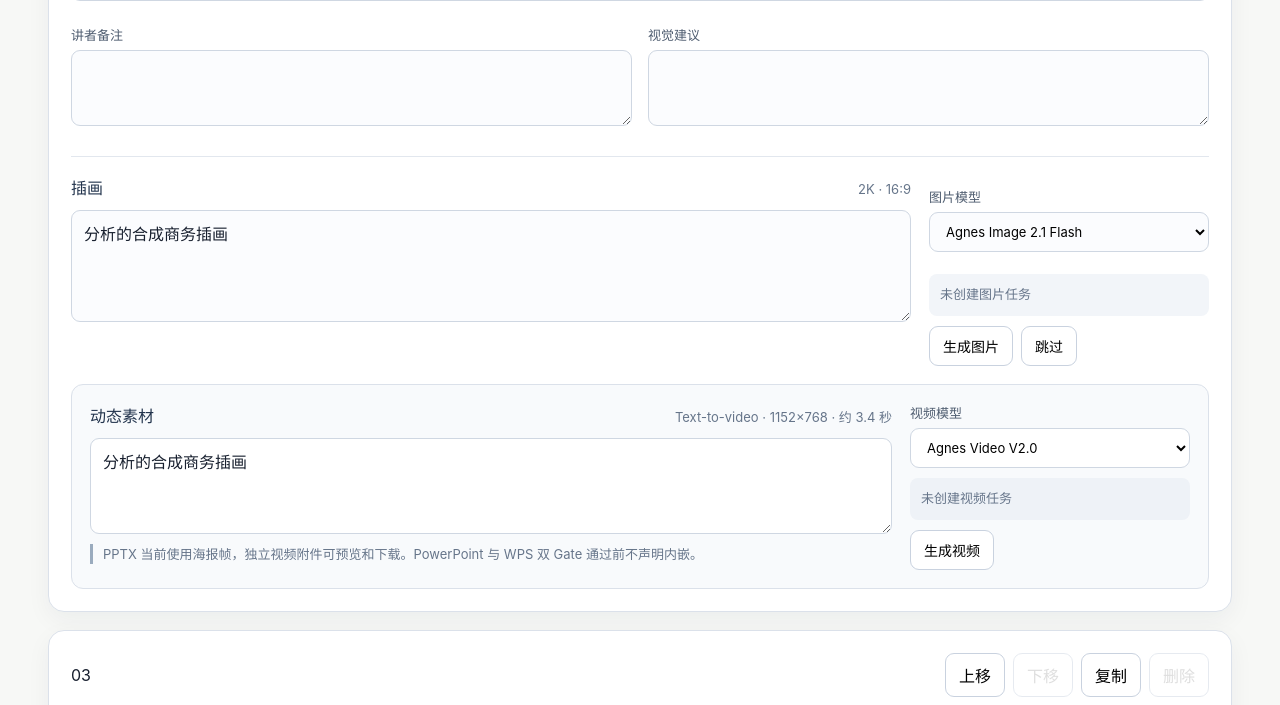
Deck editor › skip keeps the slide asset-free and never creates a billable job
(page scrolled)
Click the button with test id "slide-image-skip-1".
click(1049, 346)  # box [1021,326,1077,366]
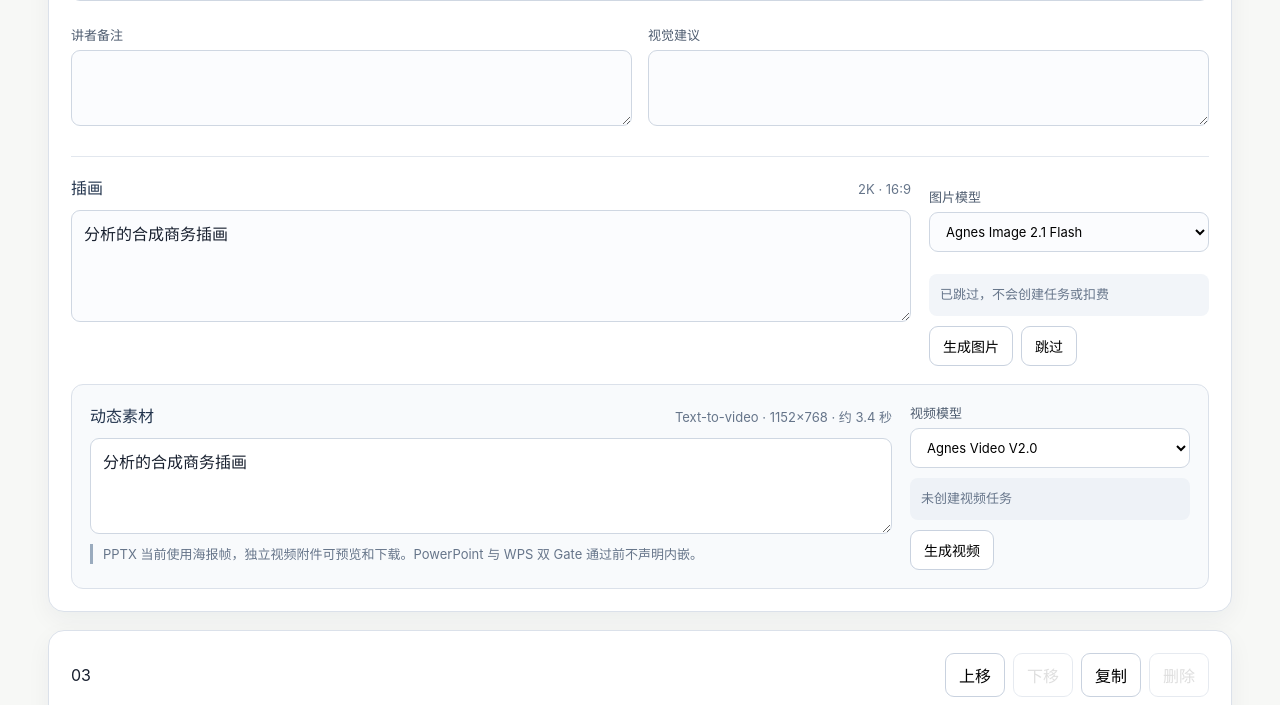
Now the text with test id "slide-image-status-1" shows "已跳过", box [940,286,1109,302]
